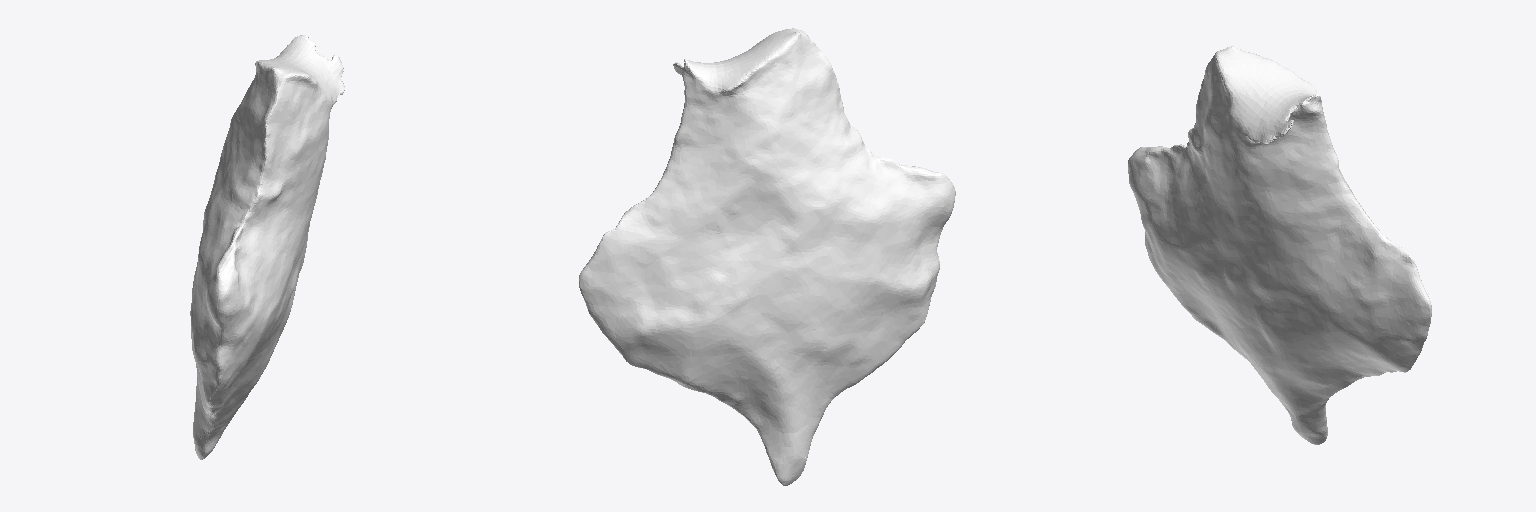
File: pc300real.obj
3 views of the same model, side by side, from view 1: azimuth 30°, elevation 25°; view 2: azimuth 150°, elevation 25°; view 3: azimuth 270°, elevation 25° (orthographic).
Visible parts, largest first — view 1: pc300; view 2: pc300; view 3: pc300.
Part boxes in pixels (bbox=[...]): pc300: bbox=[190, 35, 344, 459]; pc300: bbox=[579, 28, 955, 485]; pc300: bbox=[1128, 46, 1431, 444].
Bounding box in the file's own units: 0.3257 × 0.5629 × 0.3751.